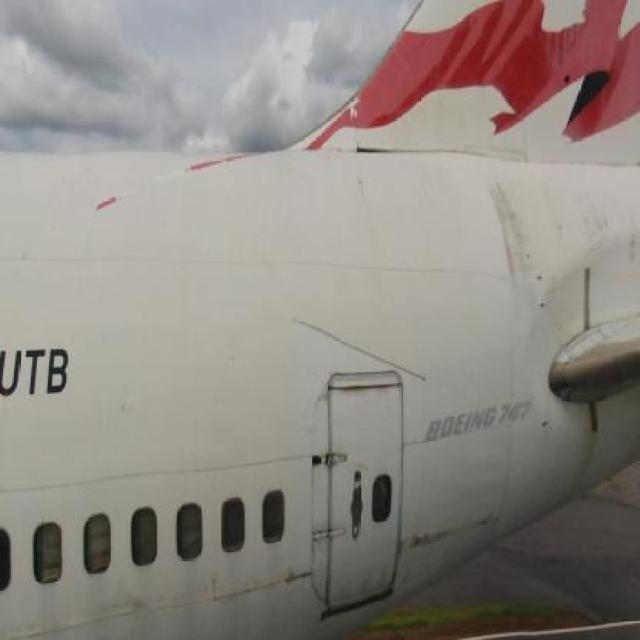Rust: (491, 164, 543, 310), (572, 175, 639, 279), (400, 516, 494, 558), (579, 402, 603, 496), (329, 380, 406, 403), (355, 556, 390, 601)
Scartch: (110, 578, 153, 632), (267, 561, 311, 597)
